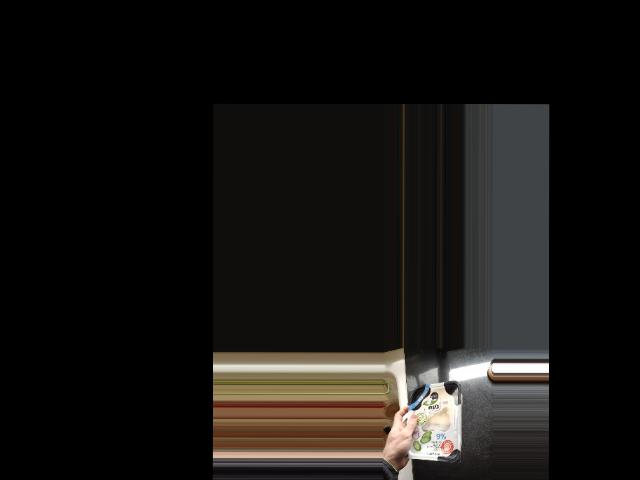cheese: (401, 382, 461, 462)
